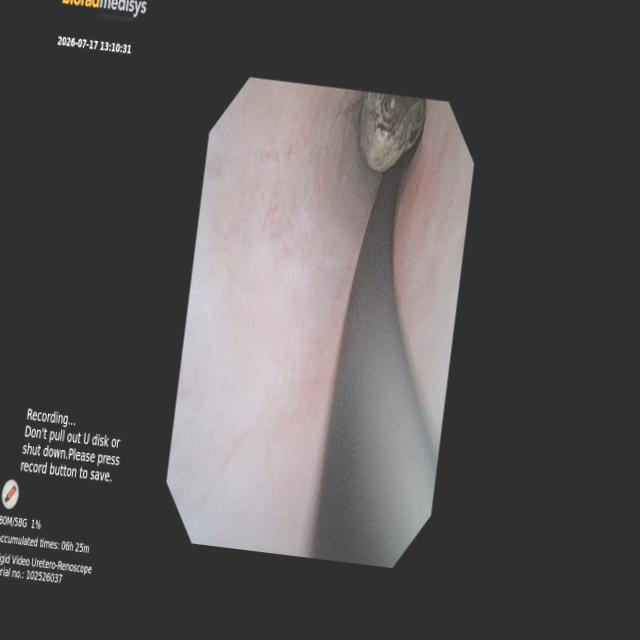stone-new: (360, 92, 425, 171)
